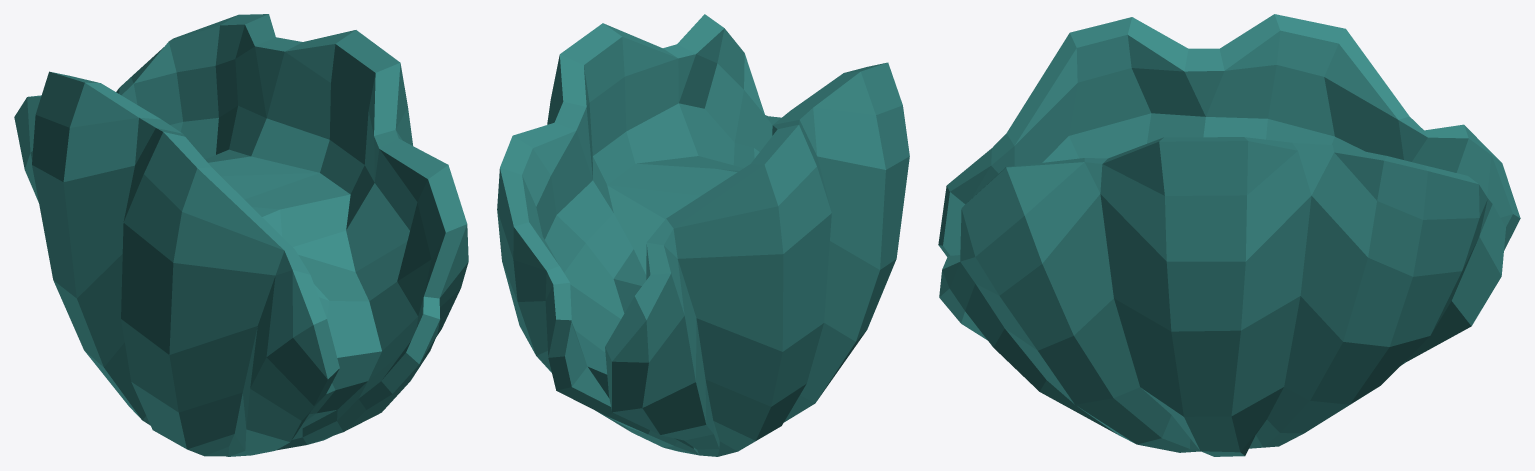
Rendered from SM_Sea_Shell_Giant_Mature_A.fbx.
The picture shows the model from 3 angles, left to right: view 1: azimuth 30°, elevation 25°; view 2: azimuth 150°, elevation 25°; view 3: azimuth 270°, elevation 25°; orthographic projection. The views are drawn at different scales.
Parts seen in each view (by area): view 1: sea-shell-giant-mature-a; view 2: sea-shell-giant-mature-a; view 3: sea-shell-giant-mature-a.
Boxes of the visible parts, x1,y1,x2,y2 form: sea-shell-giant-mature-a: (14, 14, 468, 456); sea-shell-giant-mature-a: (497, 14, 909, 456); sea-shell-giant-mature-a: (938, 14, 1520, 456).
Bounding box in the file's own units: 0.4576 × 0.5382 × 0.7537.
